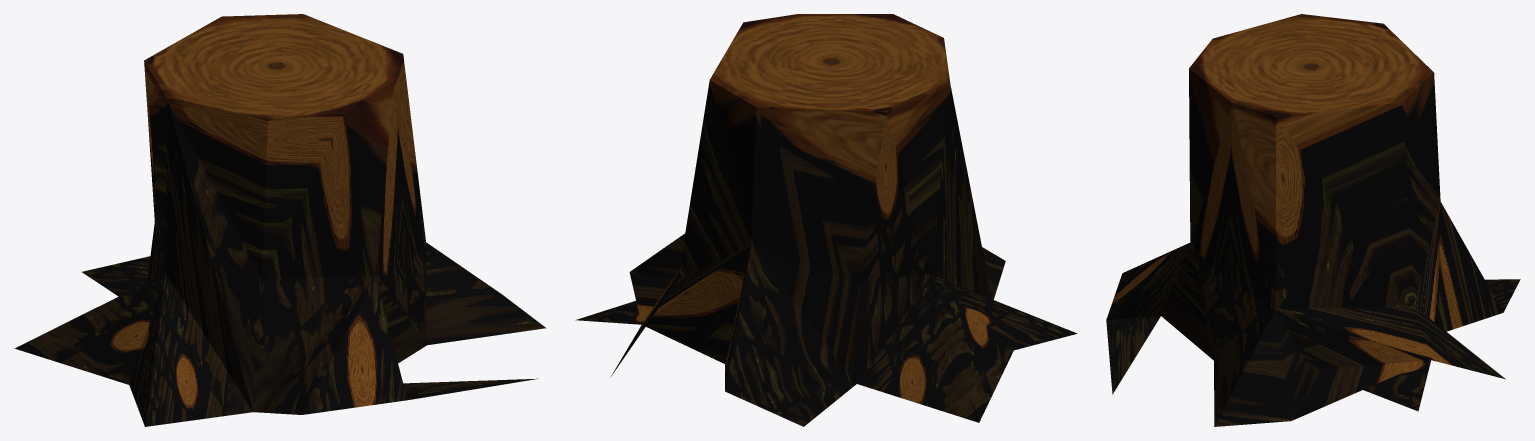
File: stump_lod2.glb
The picture shows the model from 3 angles, left to right: view 1: azimuth 30°, elevation 25°; view 2: azimuth 150°, elevation 25°; view 3: azimuth 270°, elevation 25°; orthographic projection. The views are drawn at different scales.
Visible parts, largest first — view 1: geometry_0; view 2: geometry_0; view 3: geometry_0.
Part boxes in pixels (box(x1,y1,x2,y2)): geometry_0: box(15, 14, 546, 426); geometry_0: box(575, 14, 1077, 426); geometry_0: box(1106, 14, 1520, 426).
Size of the model in its own units: 1.16 by 0.7267 by 1.05.
1 material, 1 textured.
